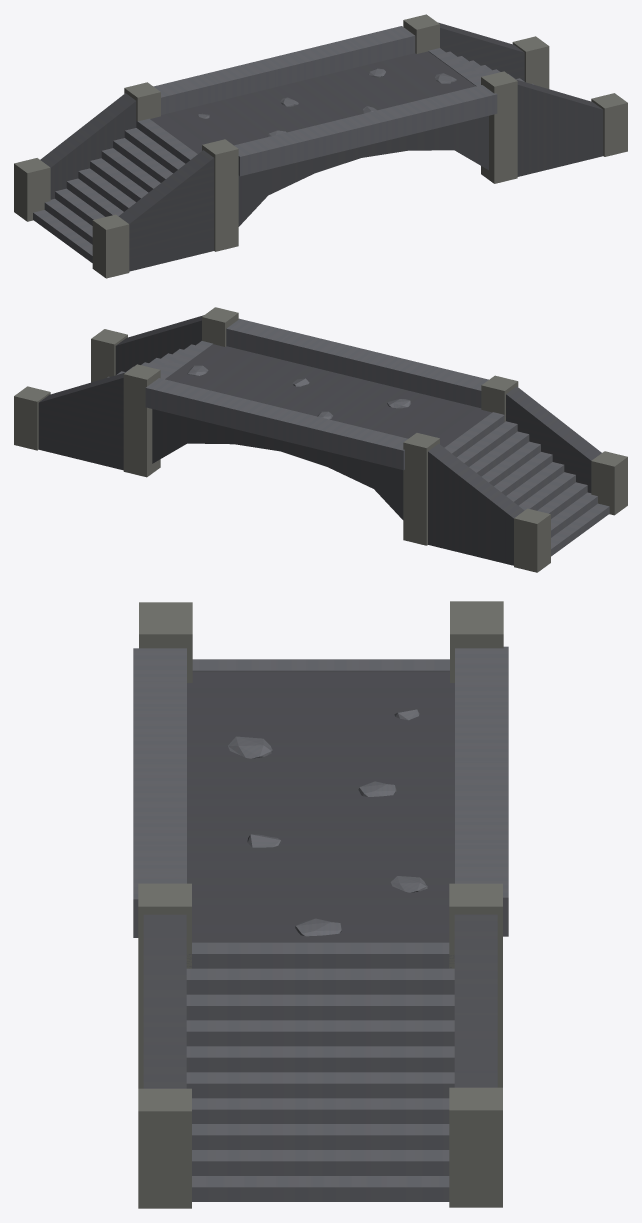
The model's file is Bridge_2_LOD1.fbx.
3 views of the same model, one above another, from view 1: azimuth 30°, elevation 25°; view 2: azimuth 150°, elevation 25°; view 3: azimuth 270°, elevation 25° (orthographic). The views are drawn at different scales.
Parts seen in each view (by area): view 1: polySurface10249; view 2: polySurface10249; view 3: polySurface10249.
Boxes of the visible parts, left/top/right/bottom form: polySurface10249: left=14, top=14, right=627, bottom=278; polySurface10249: left=14, top=307, right=627, bottom=572; polySurface10249: left=133, top=601, right=508, bottom=1208.
Size of the model in its own units: 1125 by 200 by 350.
